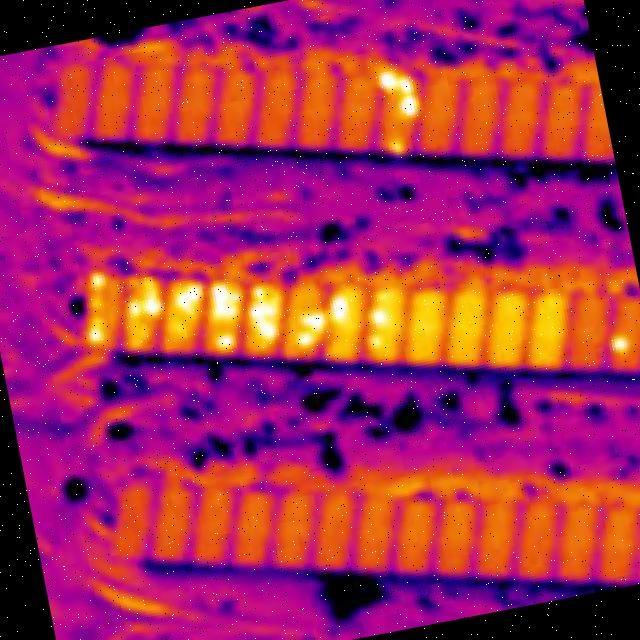Hotspot: (172, 280, 209, 314), (248, 299, 286, 325), (332, 291, 358, 325), (250, 317, 280, 344), (208, 299, 244, 321), (210, 280, 240, 304), (86, 268, 113, 294), (605, 333, 632, 358), (382, 138, 412, 160), (254, 286, 278, 312), (216, 336, 244, 356), (394, 94, 420, 115), (303, 314, 329, 334), (294, 330, 320, 348), (368, 310, 389, 332), (363, 330, 386, 350), (376, 73, 398, 93), (148, 297, 166, 319), (141, 276, 156, 297), (86, 328, 108, 342), (125, 301, 142, 315), (373, 292, 392, 304), (400, 78, 414, 94)
